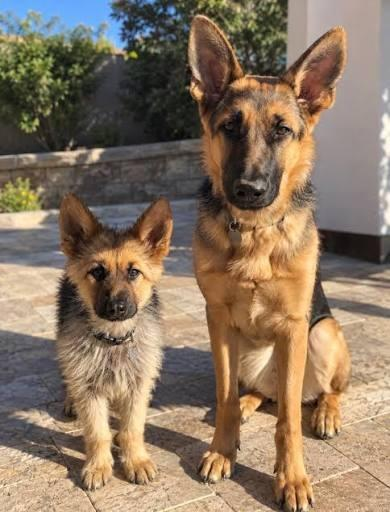adult_dog: (184, 12, 355, 510)
puppy-dog: (50, 192, 175, 493)
